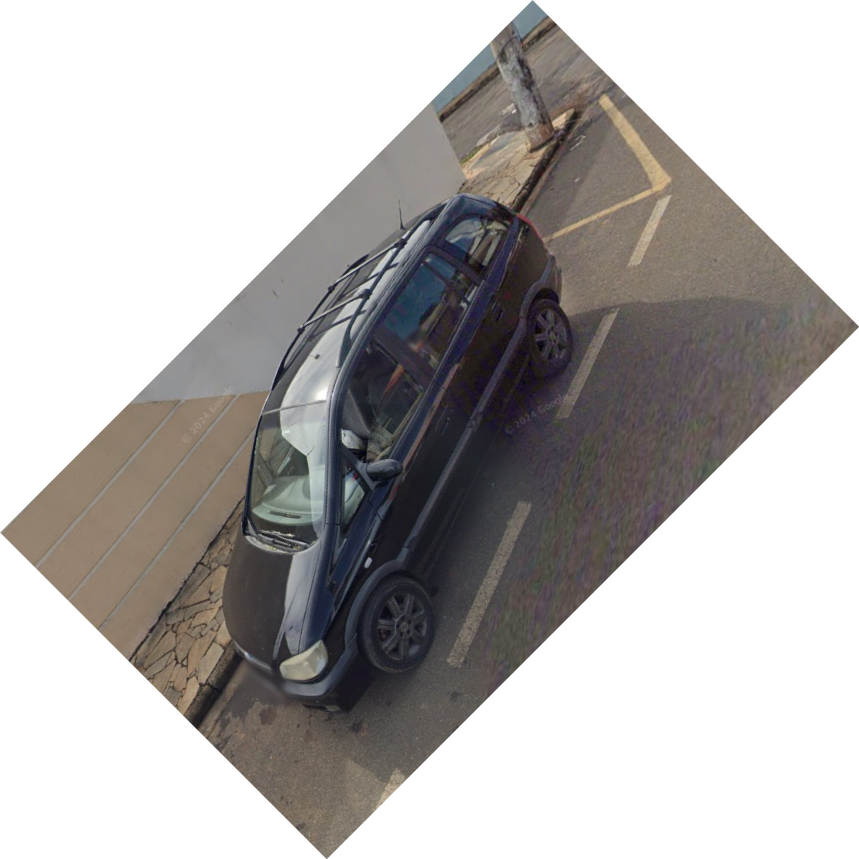car: (219, 195, 581, 713)
